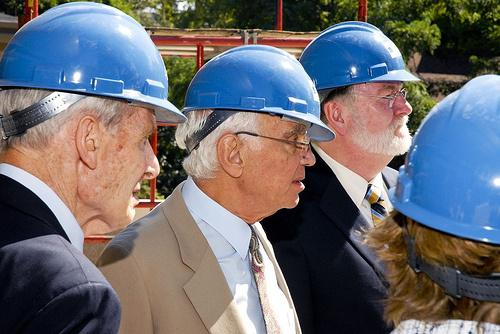helmet: (0, 0, 182, 240), (172, 22, 337, 247), (373, 54, 499, 321), (291, 4, 425, 177)
